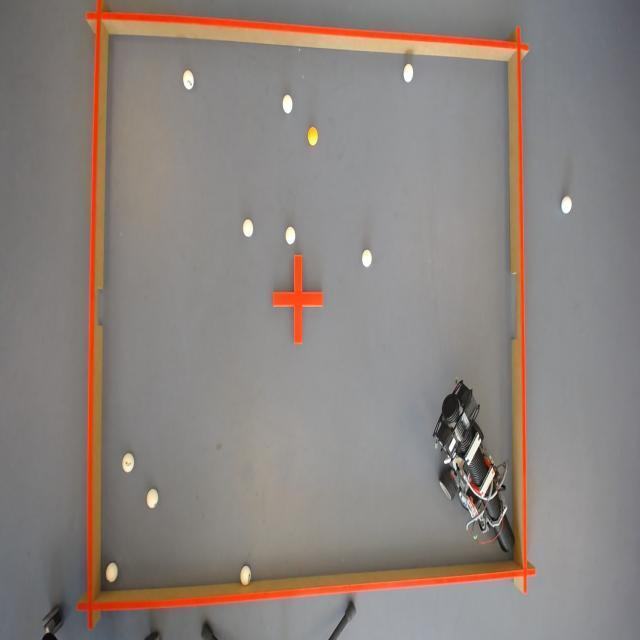orange: (306, 125, 320, 147)
robot: (432, 370, 506, 562)
white: (183, 68, 196, 92), (104, 562, 118, 584), (238, 566, 250, 589), (283, 225, 296, 246), (282, 92, 294, 114), (241, 218, 254, 238), (360, 248, 372, 269), (147, 488, 159, 509), (122, 451, 134, 471), (403, 62, 414, 82)
